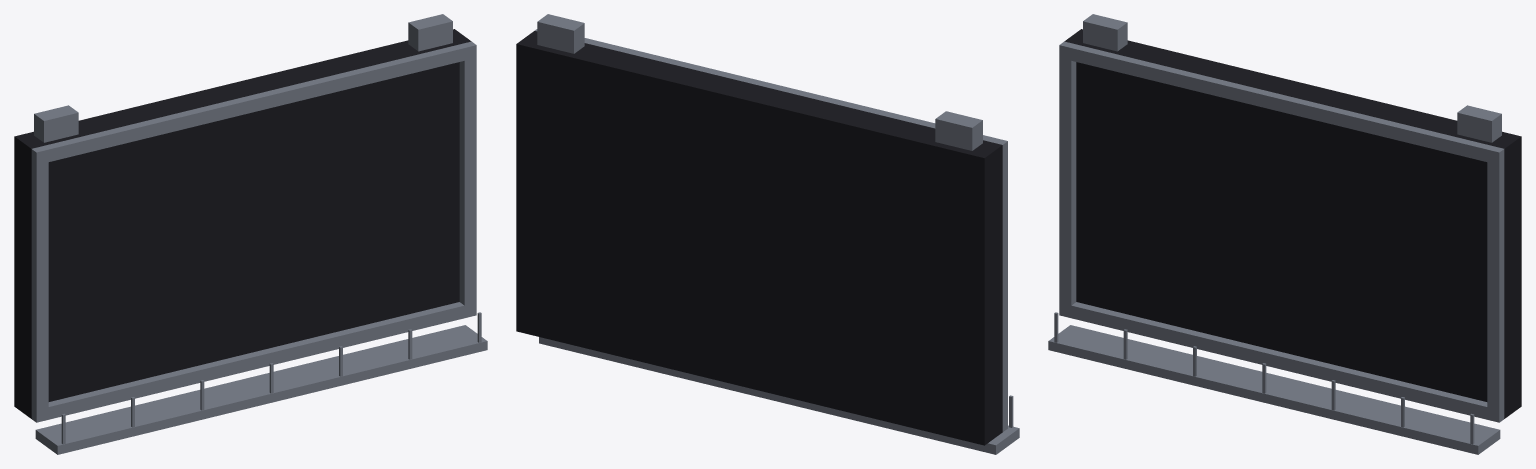
File: PantallaMarco.obj
The picture shows the model from 3 angles, left to right: view 1: azimuth 30°, elevation 25°; view 2: azimuth 150°, elevation 25°; view 3: azimuth 330°, elevation 25°; orthographic projection. The views are drawn at different scales.
Visible parts, largest first — view 1: PantallaMarco; view 2: PantallaMarco; view 3: PantallaMarco.
Boxes of the visible parts, <box> form: PantallaMarco: <box>14,14,487,454</box>; PantallaMarco: <box>516,14,1019,454</box>; PantallaMarco: <box>1048,14,1521,454</box>.
Size of the model in its own units: 12.7 by 8.65 by 1.9.
Materials: 1 (1 with a texture image).
